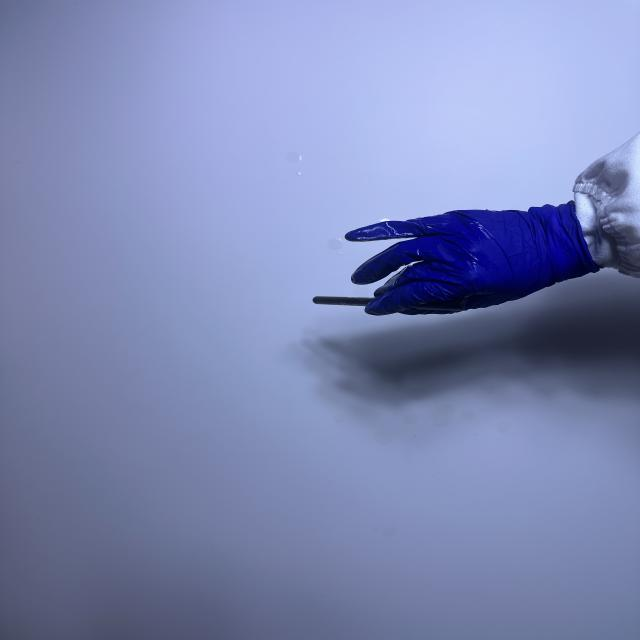gloves_contaminated: (344, 202, 598, 316)
